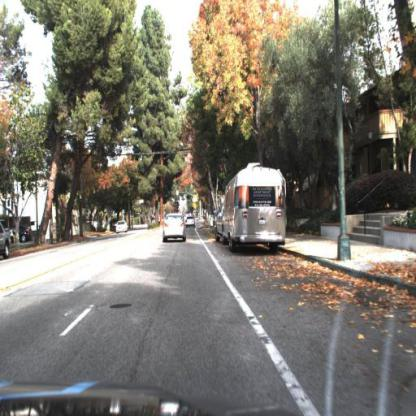car: (156, 207, 193, 251), (2, 223, 14, 264), (9, 223, 32, 244), (184, 210, 199, 231), (114, 219, 130, 238)
truck: (211, 158, 297, 258)
